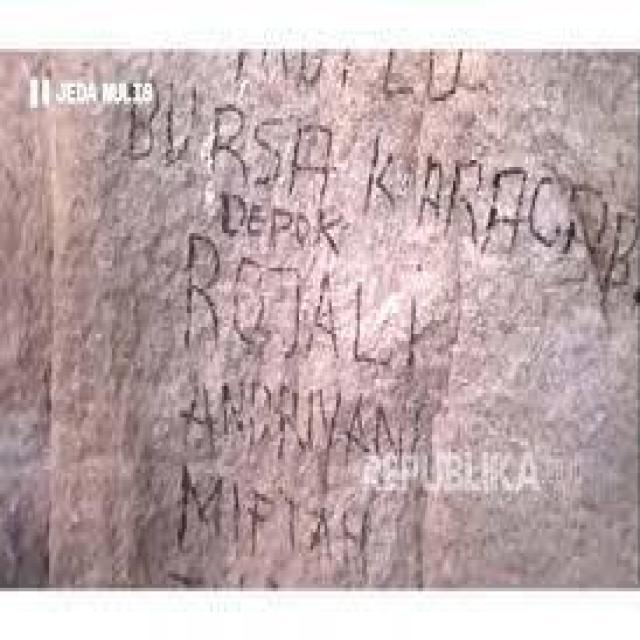nonspitting: (126, 49, 639, 574)
